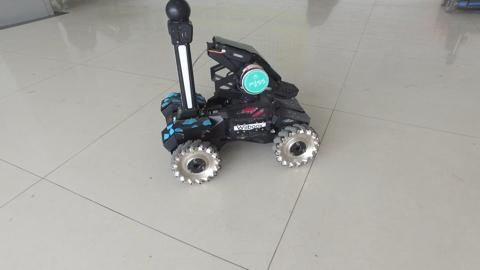chariot: (159, 1, 320, 185)
